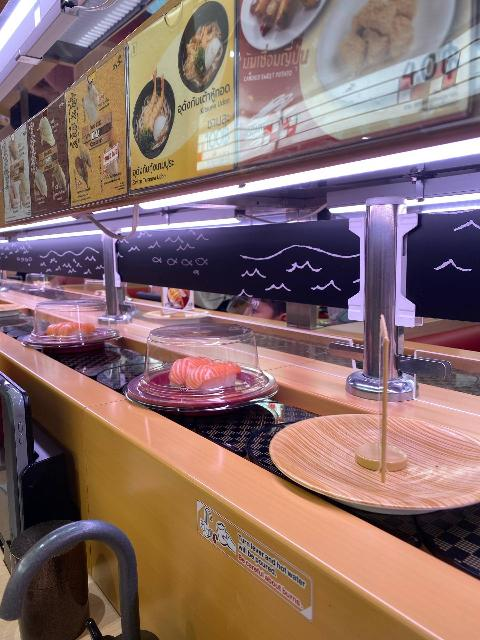janred: (149, 339, 263, 421), (31, 309, 131, 361)
